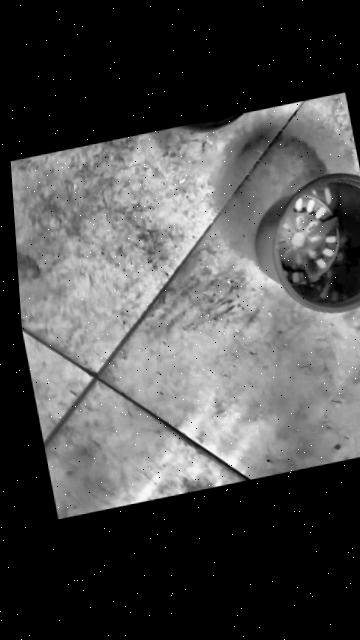pot: (241, 167, 360, 327)
